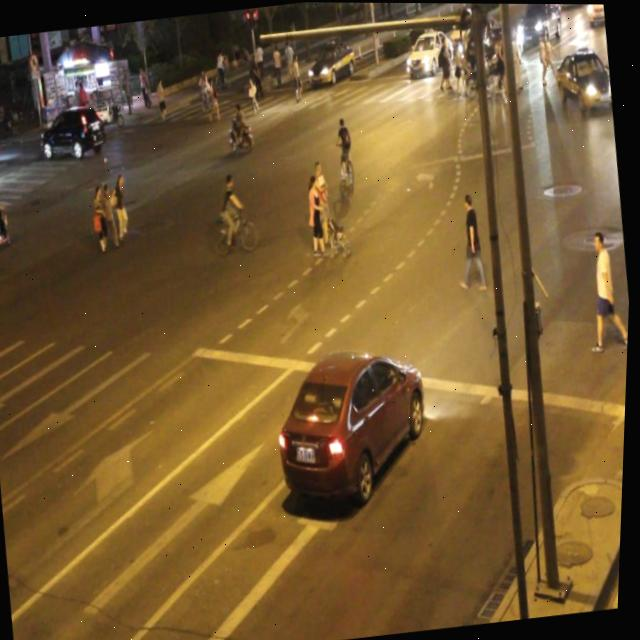car: (268, 341, 439, 504), (551, 41, 615, 115), (39, 103, 110, 162)
